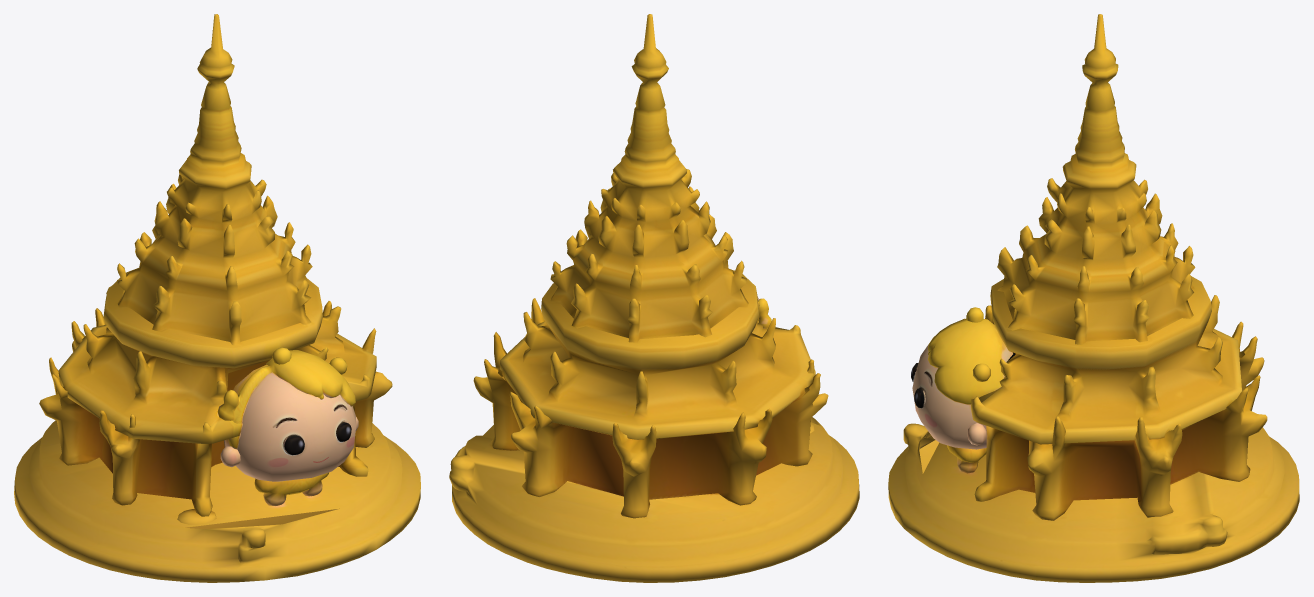
Rendered from thai-envi-1.glb.
3 renders of one model, left to right at view 1: azimuth 30°, elevation 25°; view 2: azimuth 150°, elevation 25°; view 3: azimuth 270°, elevation 25°, orthographic.
Visible parts, largest first — view 1: tripo_node_fe943dfe-6a29-4e64-ade6-366b46943166; view 2: tripo_node_fe943dfe-6a29-4e64-ade6-366b46943166; view 3: tripo_node_fe943dfe-6a29-4e64-ade6-366b46943166.
Boxes of the visible parts, bbox=[...] form: tripo_node_fe943dfe-6a29-4e64-ade6-366b46943166: bbox=[14, 14, 420, 582]; tripo_node_fe943dfe-6a29-4e64-ade6-366b46943166: bbox=[449, 14, 859, 582]; tripo_node_fe943dfe-6a29-4e64-ade6-366b46943166: bbox=[888, 14, 1299, 582].
Bounding box in the file's own units: 0.7583 × 0.9995 × 0.7681.
Materials: 1 (1 with a texture image).
